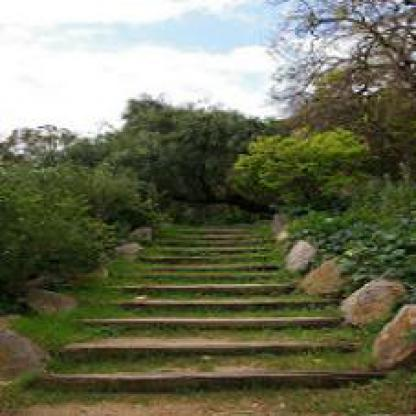stair_up: (50, 269, 364, 383)
